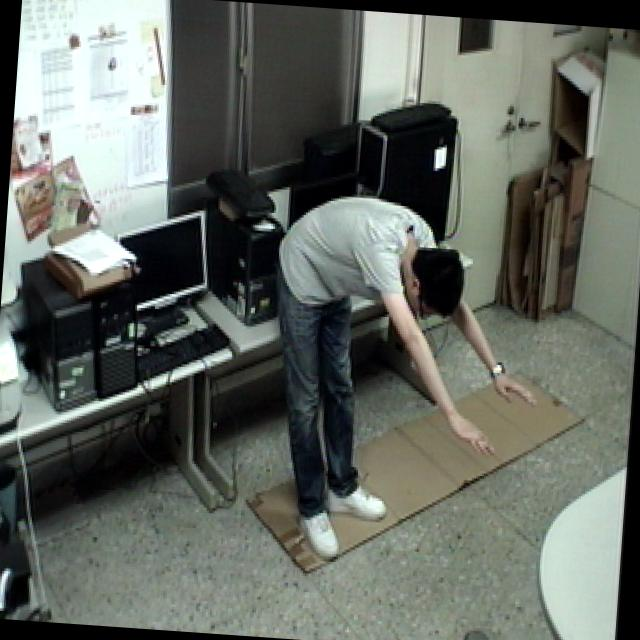bend: (249, 186, 554, 573)
